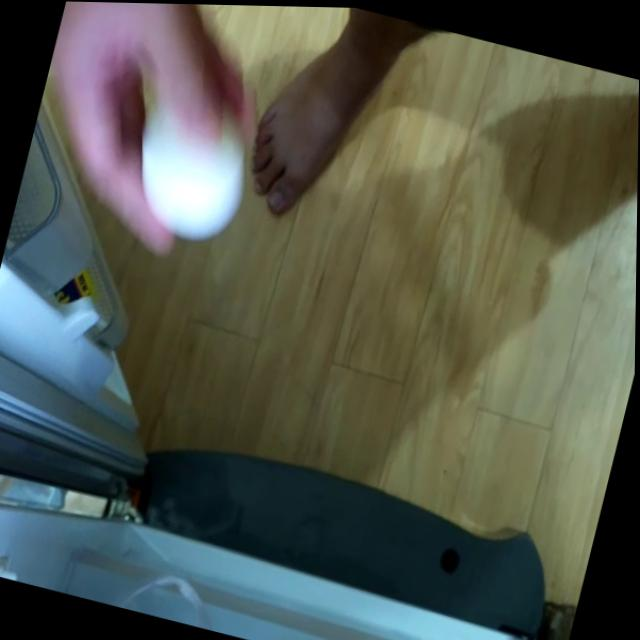egg: (121, 99, 261, 240)
